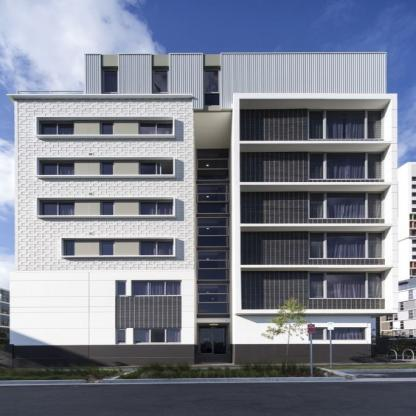Balcony: (17, 91, 85, 106)
Building Outline: (4, 52, 398, 367)
Door: (201, 328, 227, 354)
Facade: (4, 52, 398, 368)
Floor Slab: (16, 106, 386, 110), (232, 223, 391, 227), (232, 310, 391, 313), (232, 182, 391, 185), (232, 265, 391, 268), (232, 141, 391, 144)
Window: (310, 111, 382, 139), (310, 192, 382, 218), (310, 272, 382, 298), (310, 153, 382, 179), (310, 233, 382, 259), (198, 251, 228, 280), (198, 184, 228, 213), (198, 151, 228, 179), (198, 285, 228, 313), (198, 218, 228, 246), (133, 282, 180, 295), (310, 329, 364, 340), (135, 330, 180, 343), (205, 71, 218, 105), (139, 163, 172, 176), (140, 242, 173, 255), (42, 202, 75, 215), (139, 122, 172, 135), (42, 163, 75, 176), (42, 122, 75, 135), (140, 202, 173, 214), (105, 71, 118, 92), (155, 71, 168, 92), (100, 202, 114, 215), (101, 242, 113, 255), (100, 163, 113, 175), (102, 122, 113, 135), (117, 282, 126, 295), (117, 330, 126, 343), (66, 242, 74, 255)
